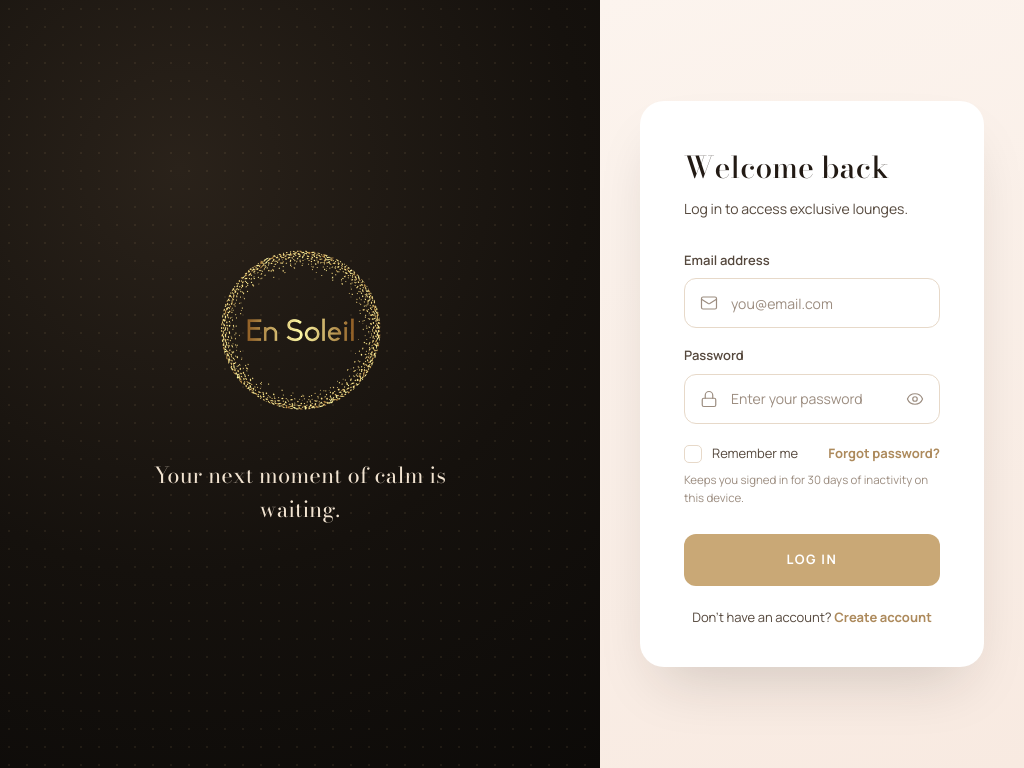
Test: validación de los campos › exige que el email tenga forma de dirección
This screenshot has width=1024, height=768.
Type "alexandra.rivas" into the field labelled "Email address" at (812, 303), box [684,278,940,328]
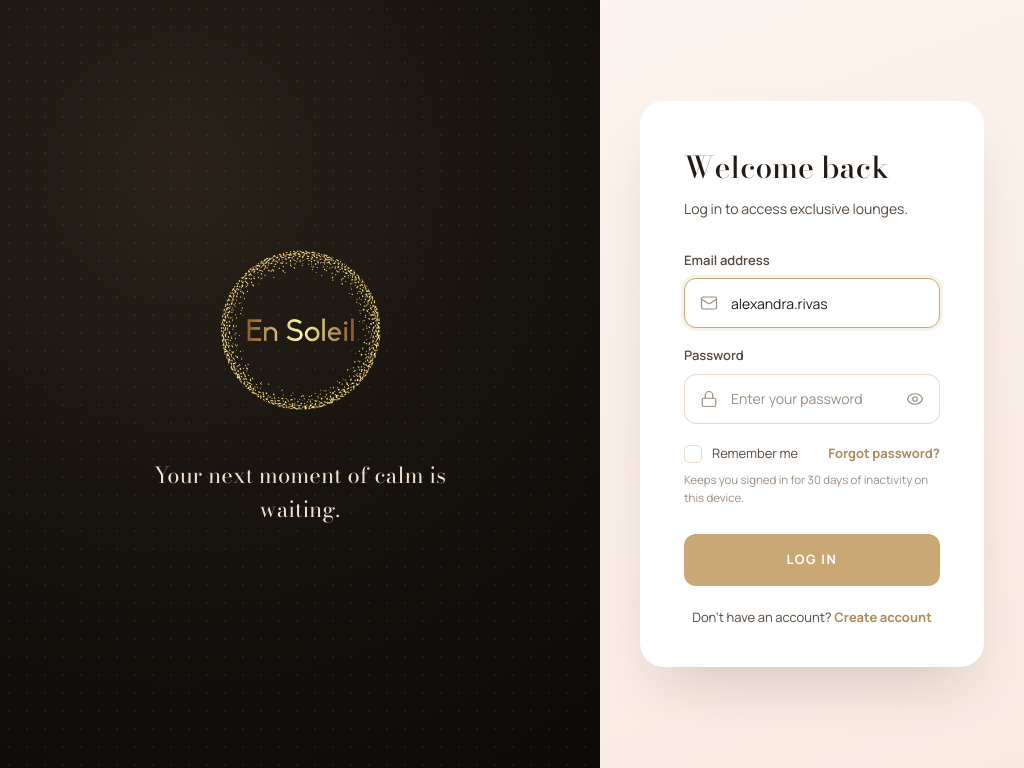
Type "EnSoleil!2026" into the password field labelled "Password" at (812, 399), box [684,374,940,424]
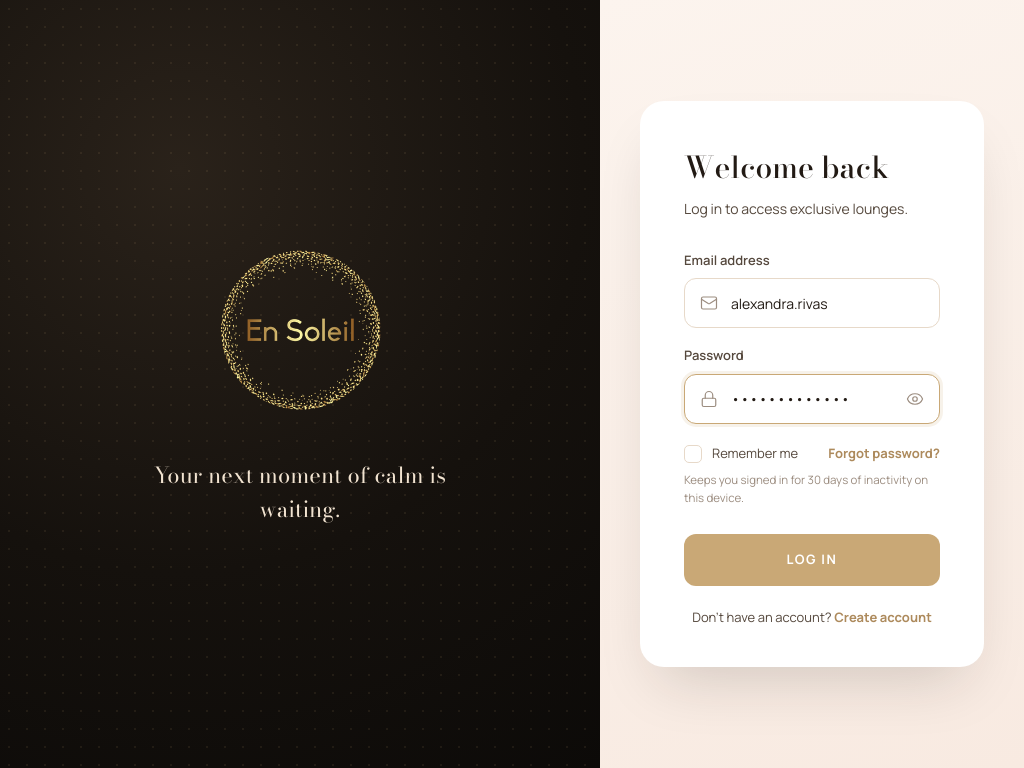
Click the button "Log in" at (812, 560), box [684,534,940,586]
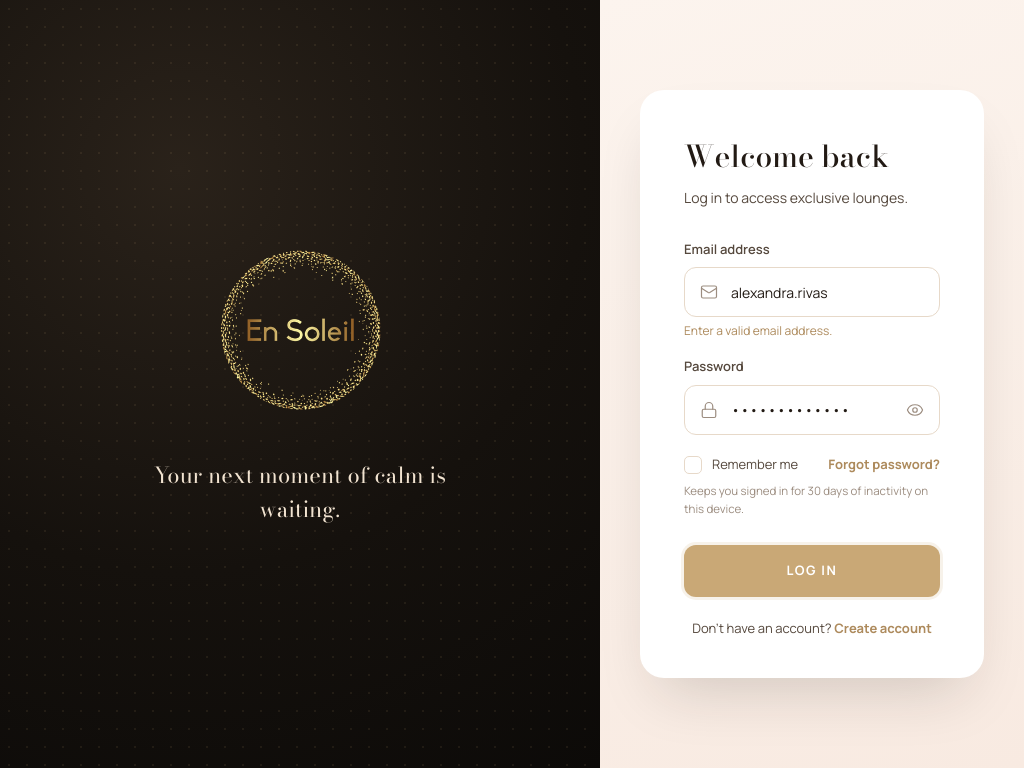
Check: the text "Enter a valid email address." is shown, box [684,322,832,339]
